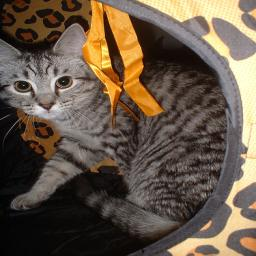catnose: (38, 102, 56, 111)
